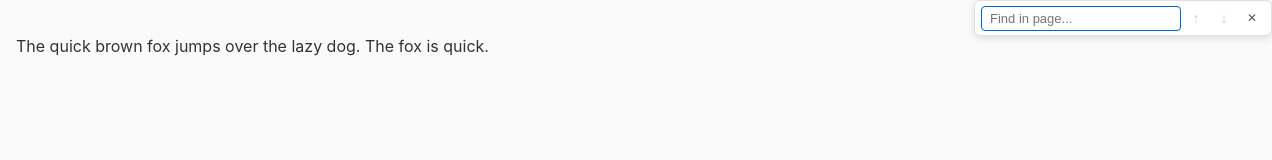
Scenario: FindBar › shows "No matches" for a query with no results
In the field with placeholder "Find in page...": (1081, 18) [981, 6, 1181, 30], type "zebra"
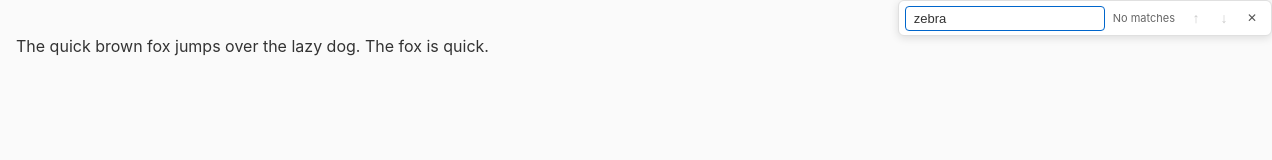
expect the text "No matches" is shown: met, box [1113, 11, 1175, 25]
